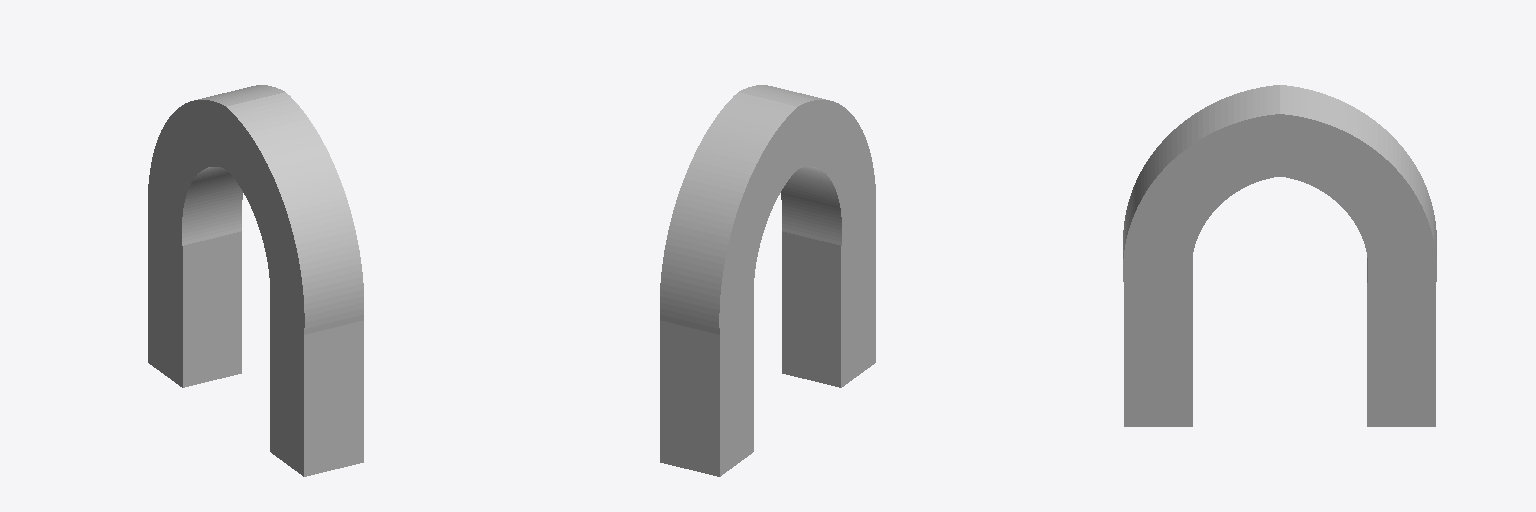
Rendered from arch.obj.
3 renders of one model, left to right at view 1: azimuth 30°, elevation 25°; view 2: azimuth 150°, elevation 25°; view 3: azimuth 270°, elevation 25°, orthographic.
Parts seen in each view (by area): view 1: Cube; view 2: Cube; view 3: Cube.
Part boxes in pixels (left/top/right/bottom): Cube: left=148, top=85, right=363, bottom=476; Cube: left=660, top=85, right=875, bottom=476; Cube: left=1123, top=85, right=1436, bottom=426.
Bounding box in the file's own units: 2 × 10.02 × 9.1.